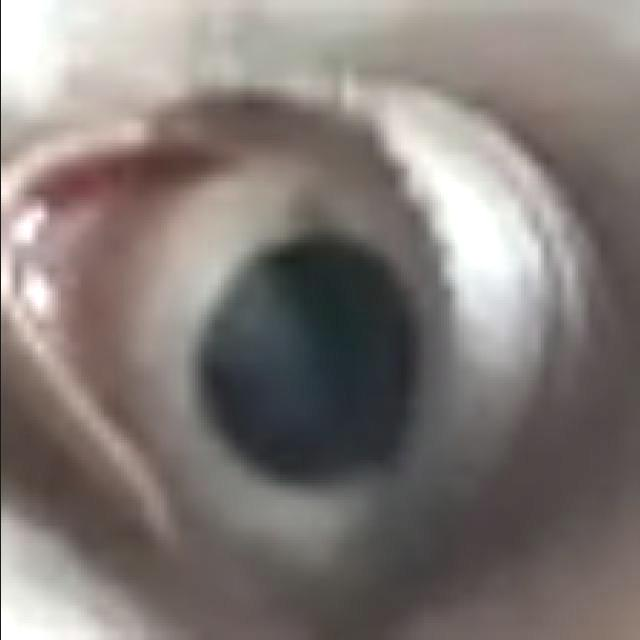conjunctiva_pallor: (0, 161, 216, 486)
